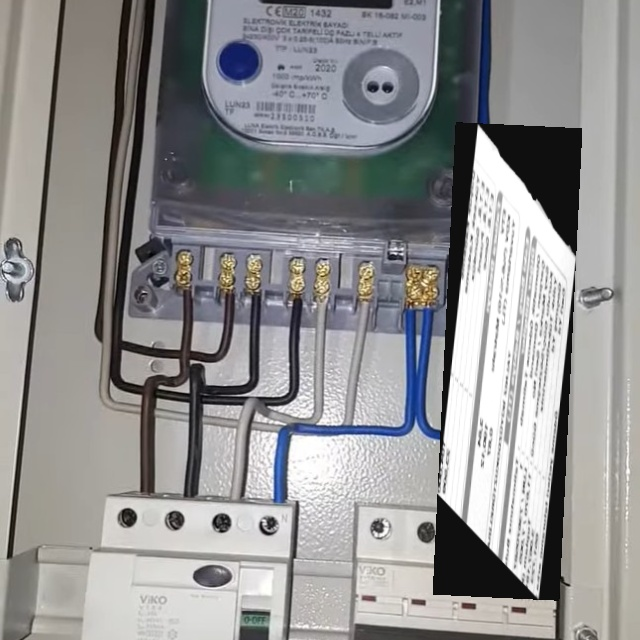electricity-bill: (433, 122, 582, 601)
